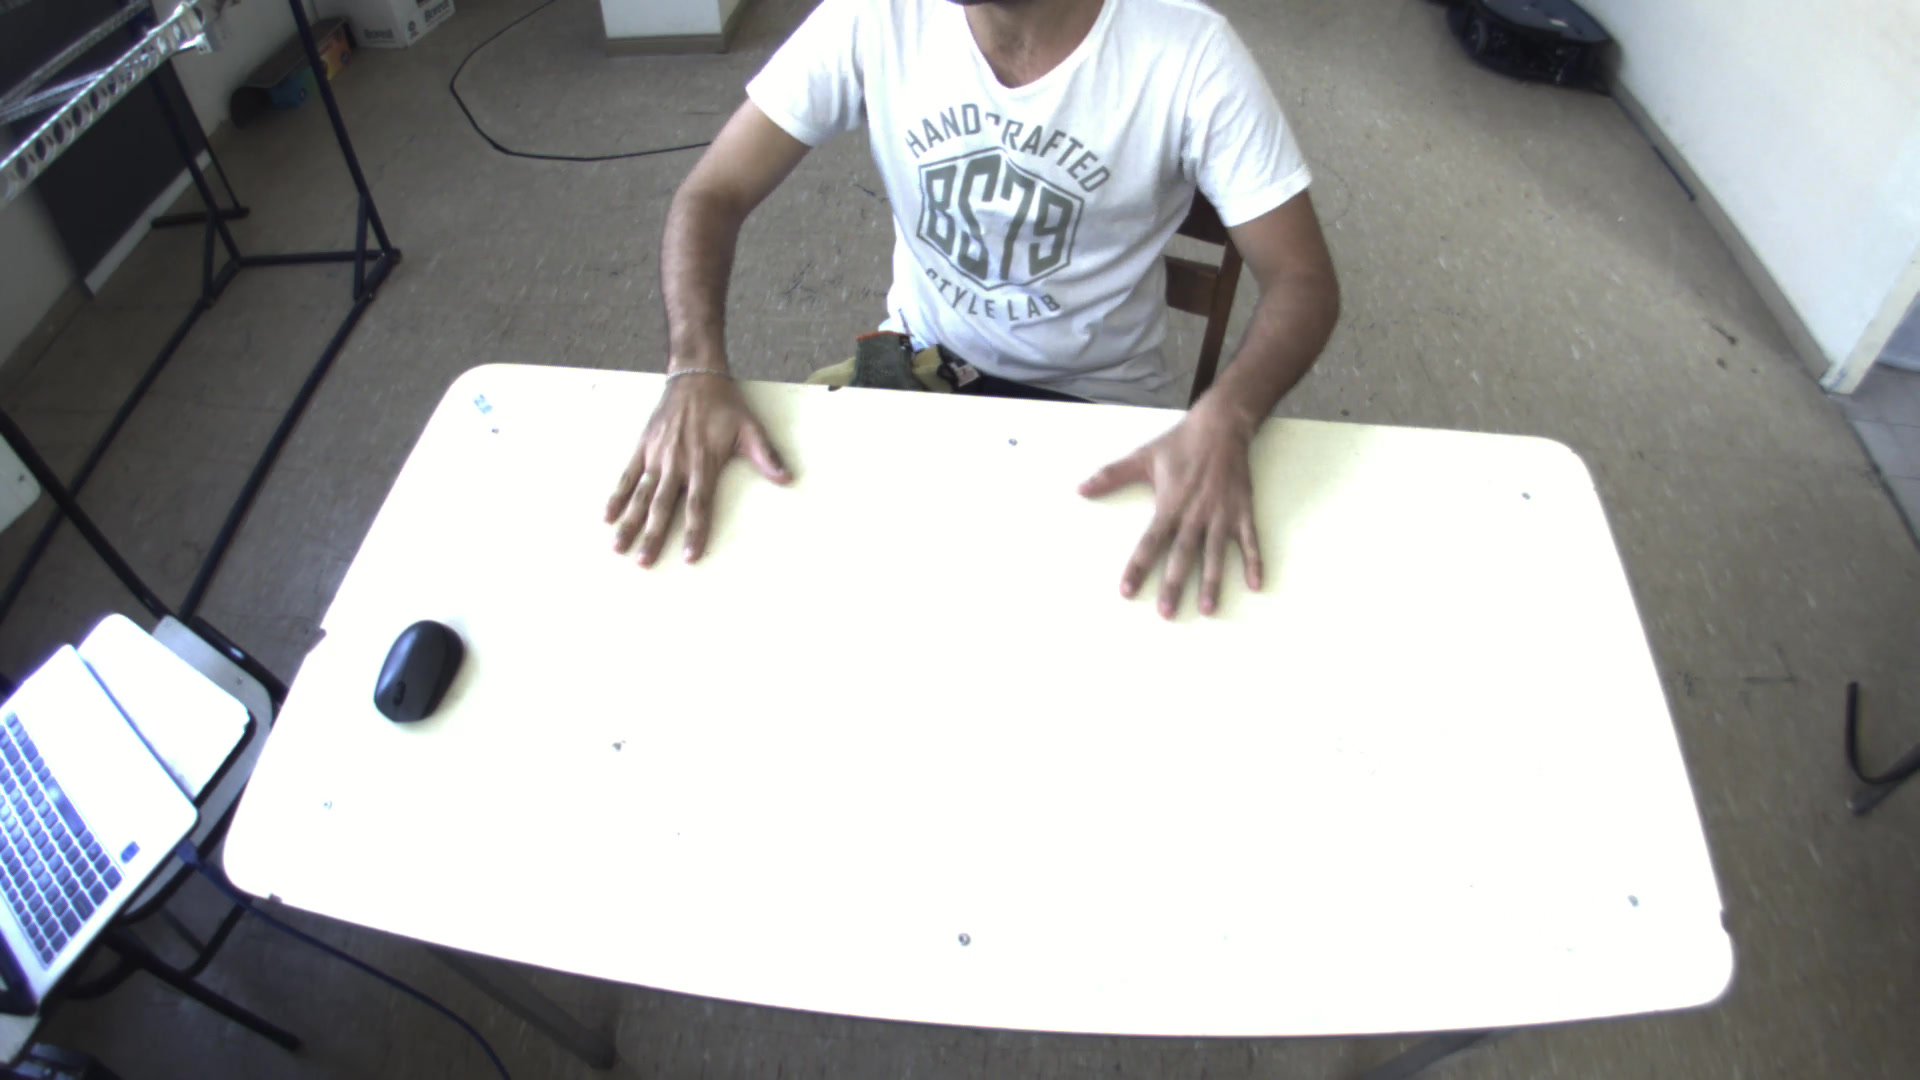hand: (1072, 386, 1287, 632), (585, 345, 808, 574)
